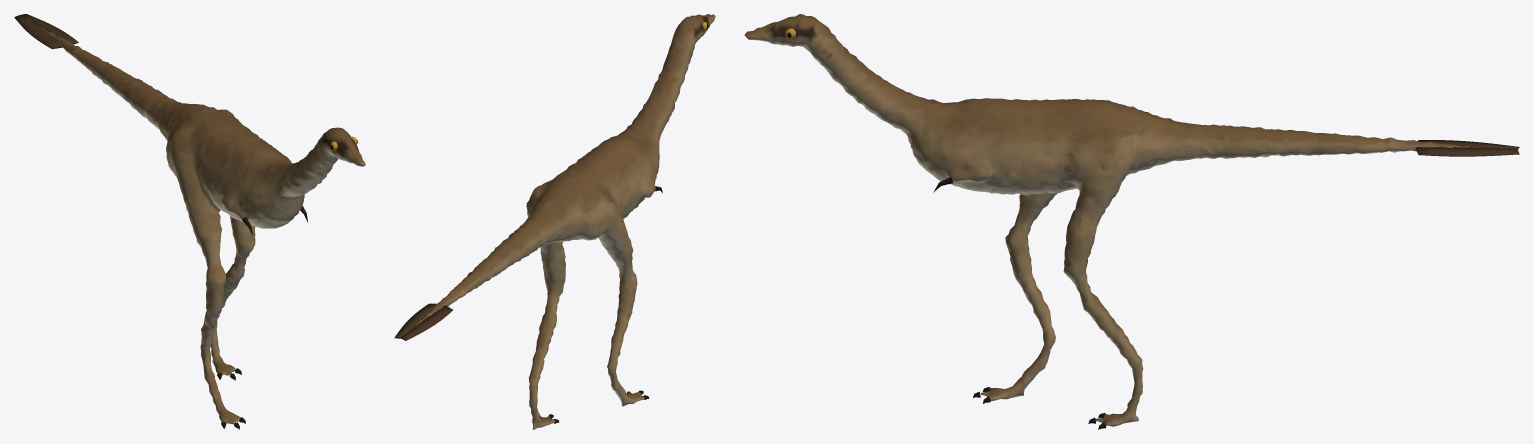
Rendered from Mononykus.fbx.
3 views of the same model, side by side, from view 1: azimuth 30°, elevation 25°; view 2: azimuth 150°, elevation 25°; view 3: azimuth 270°, elevation 25° (orthographic). The views are drawn at different scales.
Visible parts, largest first — view 1: Mononykus; view 2: Mononykus; view 3: Mononykus.
Boxes of the visible parts, <box> form: Mononykus: <box>14,14,365,429</box>; Mononykus: <box>394,14,715,429</box>; Mononykus: <box>744,14,1519,429</box>.
Size of the model in its own units: 0.2188 by 0.9063 by 1.61.
